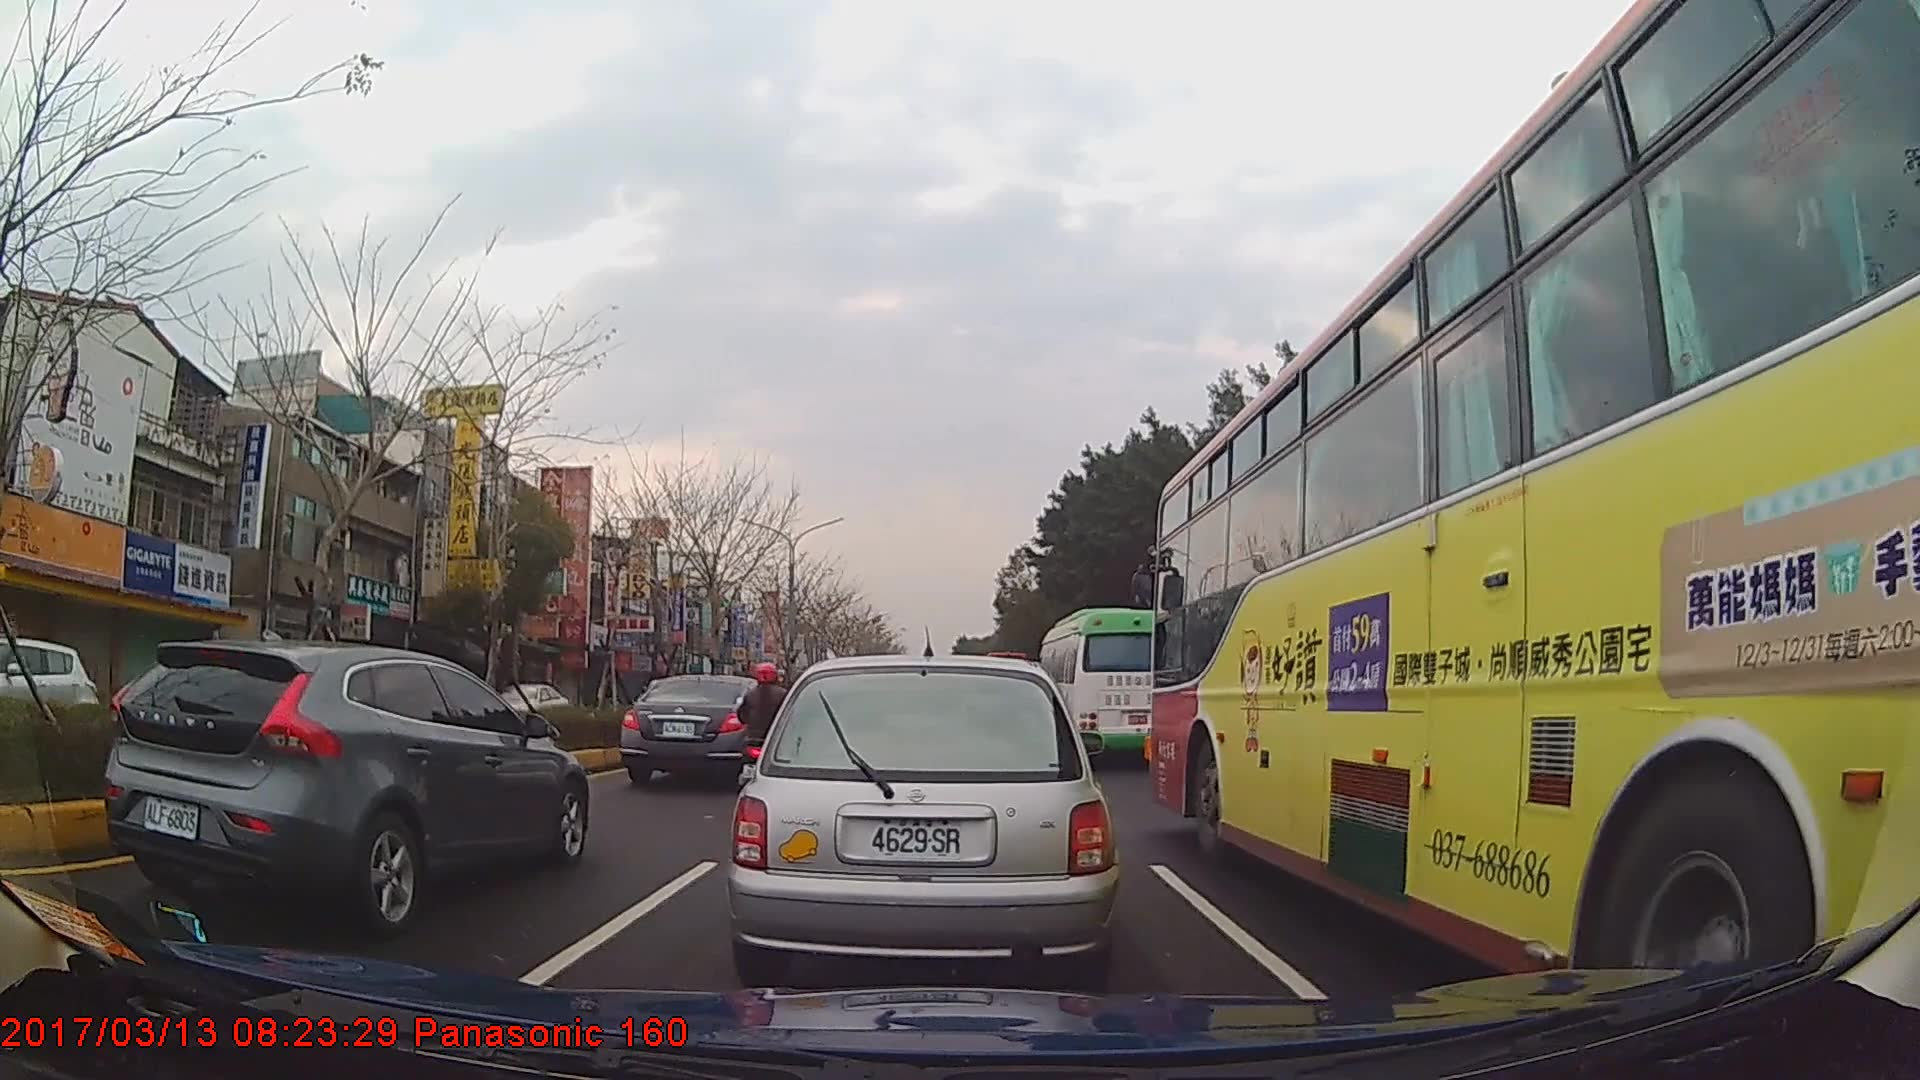rider: (738, 662, 800, 807)
vehicle: (1149, 0, 1920, 1030), (100, 635, 585, 928), (731, 652, 1119, 983), (1038, 607, 1174, 764), (620, 672, 782, 790), (0, 636, 96, 757), (485, 680, 571, 728)
